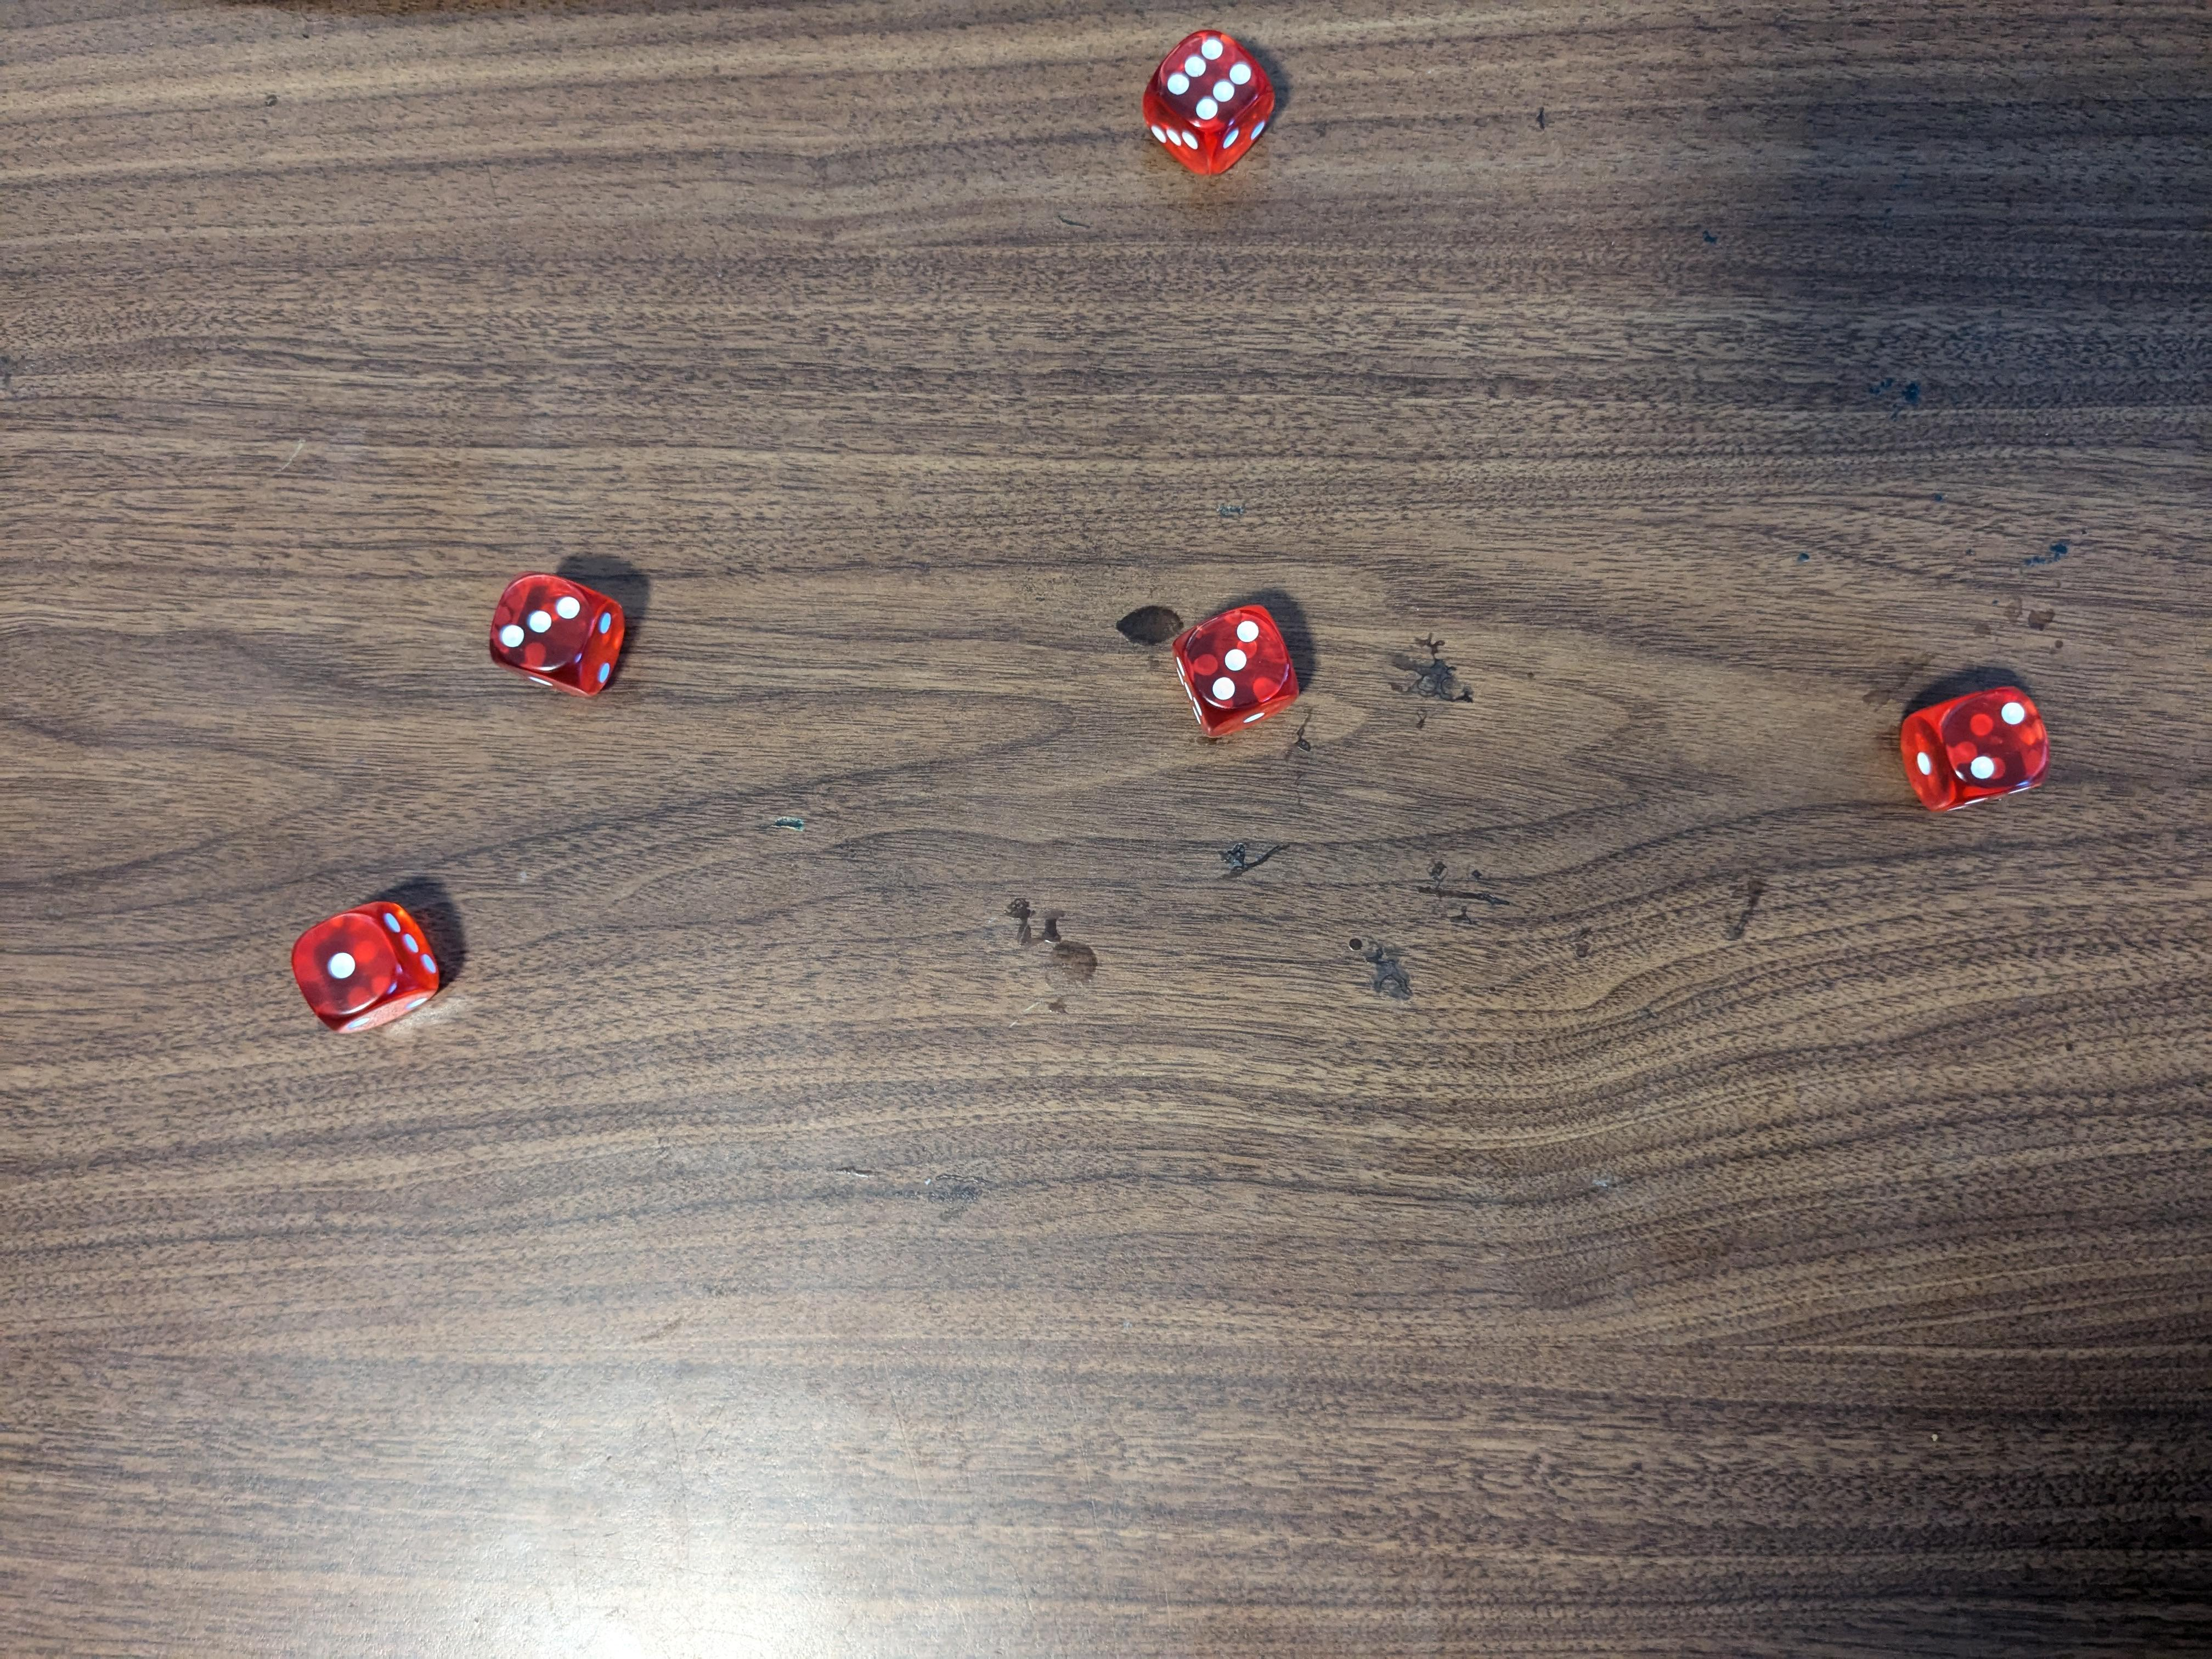one: (291, 896, 453, 1032)
six: (1143, 28, 1277, 183)
three: (1172, 598, 1312, 741), (493, 566, 629, 701)
two: (1902, 680, 2064, 814)
